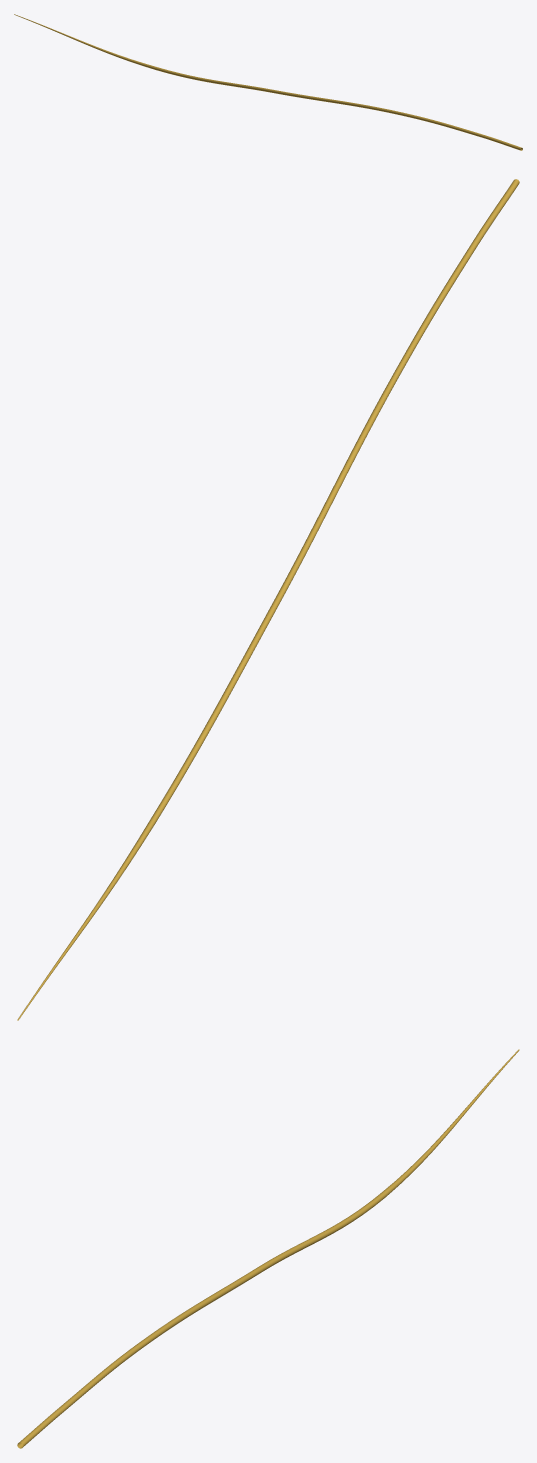
3 views of the same model, one above another, from view 1: azimuth 30°, elevation 25°; view 2: azimuth 150°, elevation 25°; view 3: azimuth 330°, elevation 25° (orthographic). The views are drawn at different scales.
Parts seen in each view (by area): view 1: 右侧前臂内侧皮神经前支; view 2: 右侧前臂内侧皮神经前支; view 3: 右侧前臂内侧皮神经前支.
Part boxes in pixels (x1,y1,x2,y2): 右侧前臂内侧皮神经前支: (14, 14, 522, 150); 右侧前臂内侧皮神经前支: (17, 179, 519, 1020); 右侧前臂内侧皮神经前支: (17, 1049, 519, 1448).
Bounding box in the file's own units: 0.069 × 0.0567 × 0.3459.
